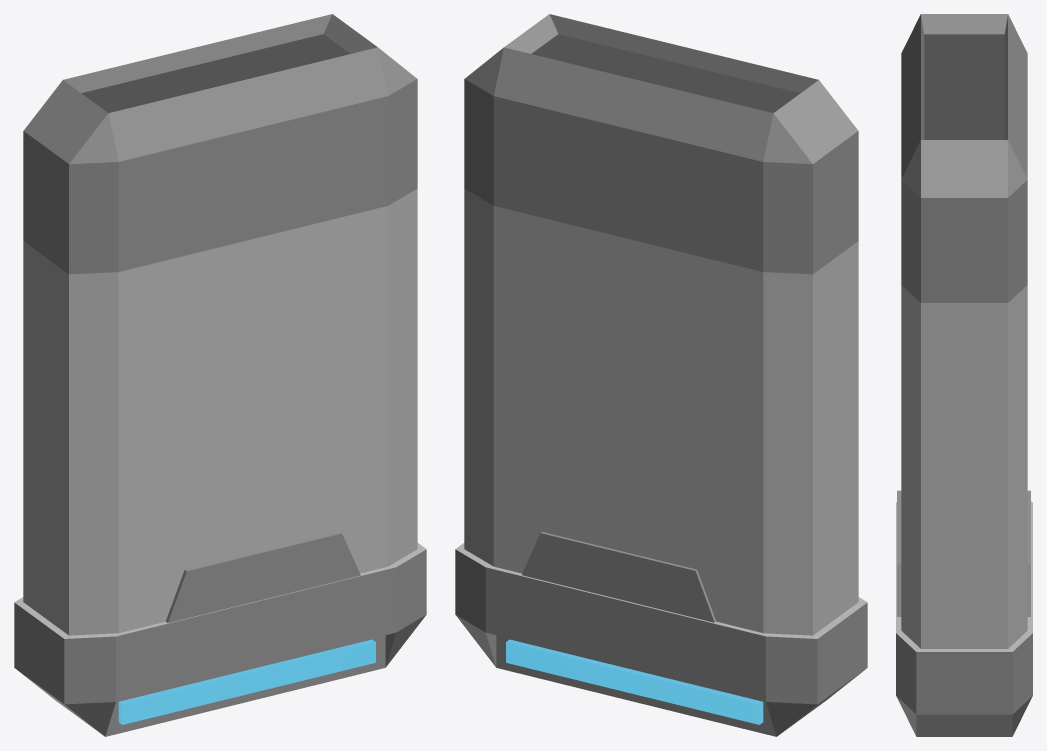
File: SM_Mag_L.fbx
3 views of the same model, side by side, from view 1: azimuth 30°, elevation 25°; view 2: azimuth 150°, elevation 25°; view 3: azimuth 270°, elevation 25° (orthographic). The views are drawn at different scales.
Parts seen in each view (by area): view 1: SM_Mag_L; view 2: SM_Mag_L; view 3: SM_Mag_L.
Boxes of the visible parts, x1=… form: SM_Mag_L: x1=14, y1=14, x2=426, y2=736; SM_Mag_L: x1=455, y1=14, x2=867, y2=736; SM_Mag_L: x1=896, y1=14, x2=1032, y2=736.
Size of the model in its own units: 10.02 by 16.41 by 3.42.
